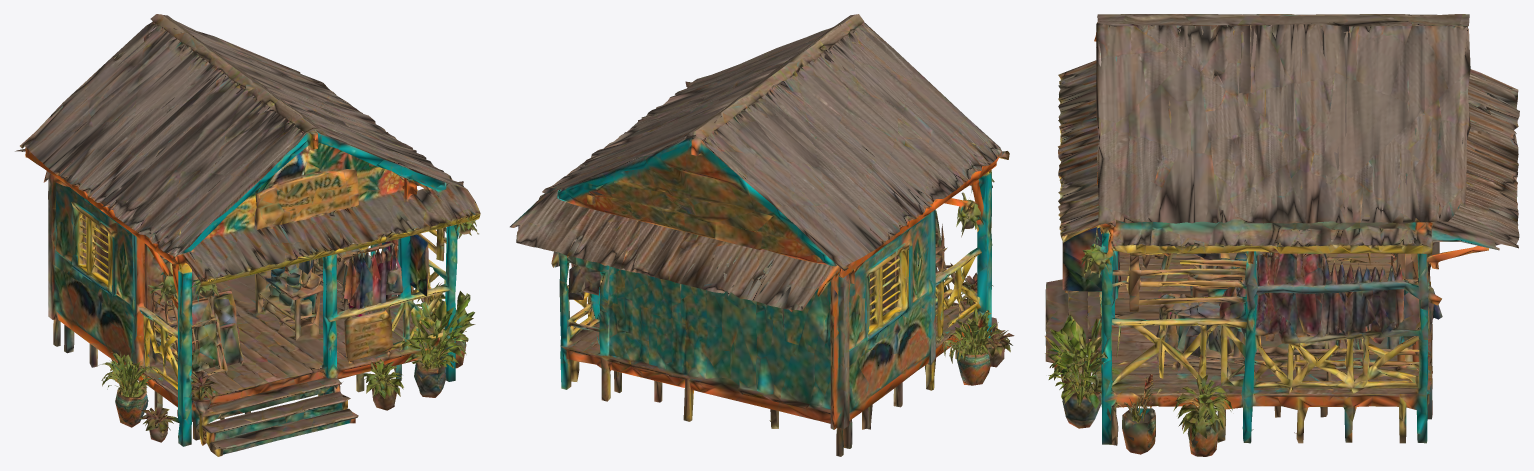
Rendered from kuranda-art-phone.glb.
The picture shows the model from 3 angles, left to right: view 1: azimuth 30°, elevation 25°; view 2: azimuth 150°, elevation 25°; view 3: azimuth 270°, elevation 25°; orthographic projection. The views are drawn at different scales.
Size of the model in its own units: 1.86 by 1.47 by 1.83.
1 material, 1 textured.
